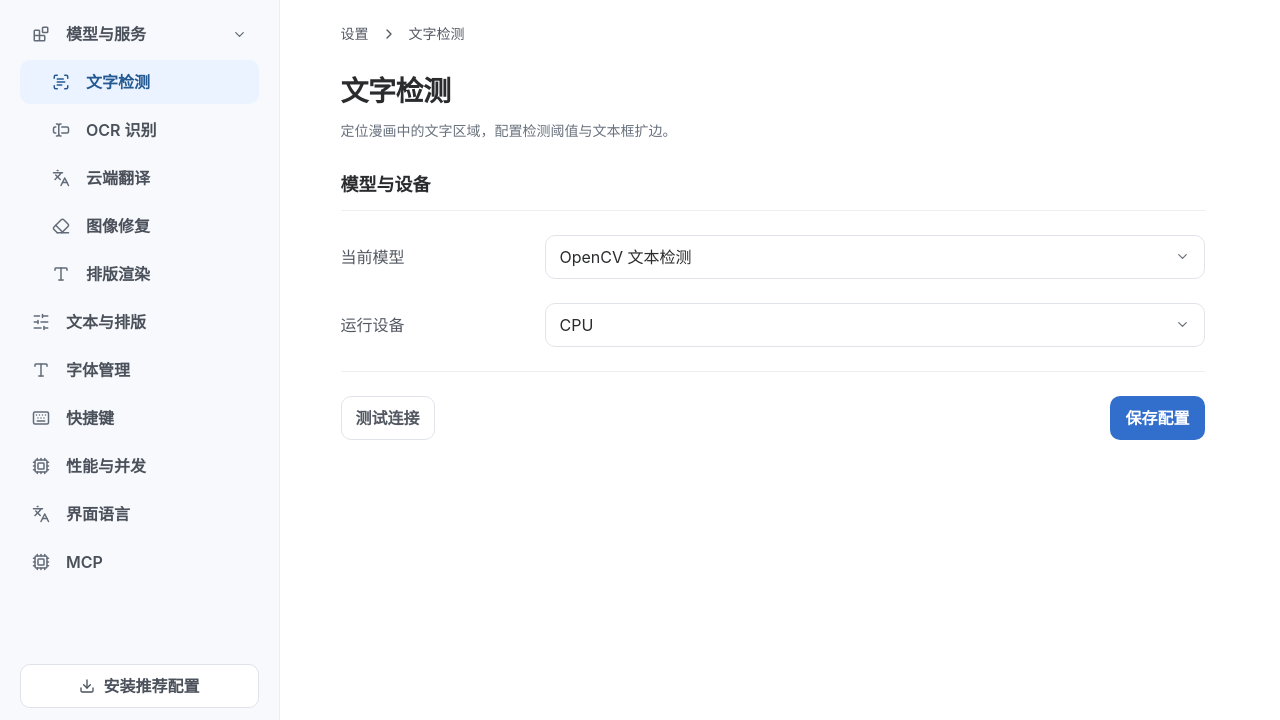
Test: service connection tests › tests rendering using current settings without saving
Click the button "排版渲染". click: (140, 274)
box: [20,252,259,296]
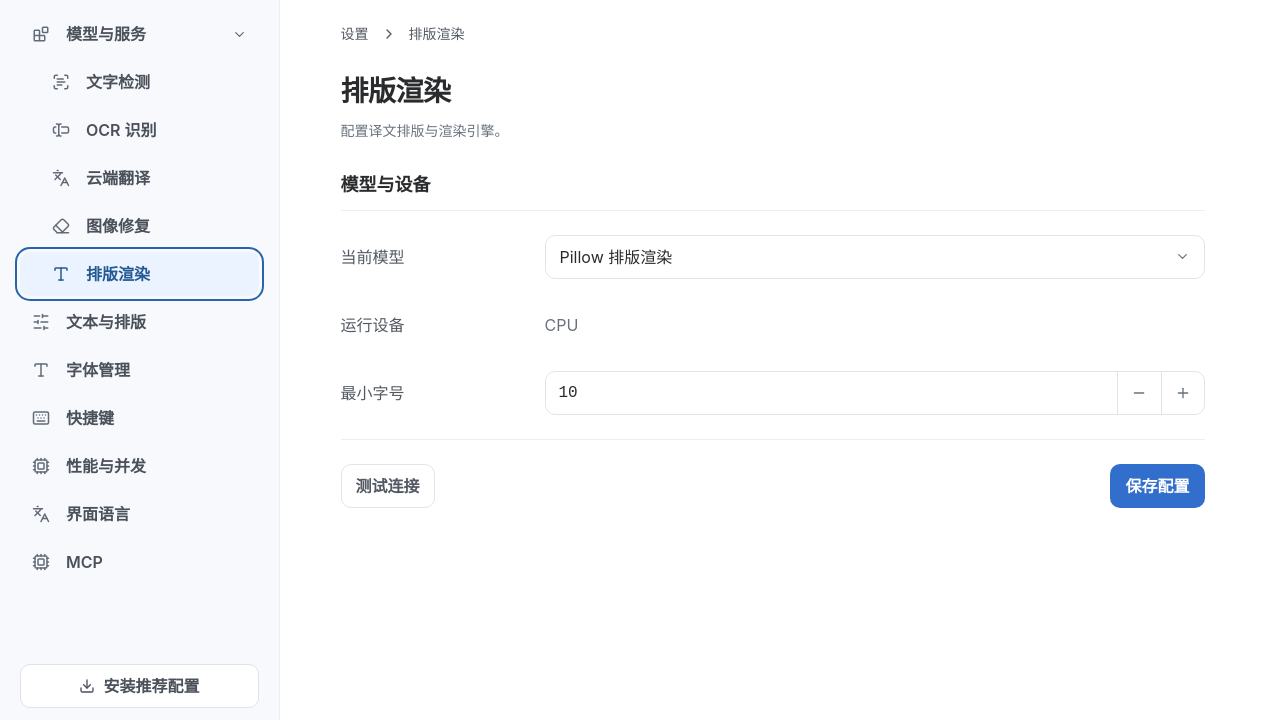
Click the button "测试连接". click: (388, 486)
box: [340,464,434,508]
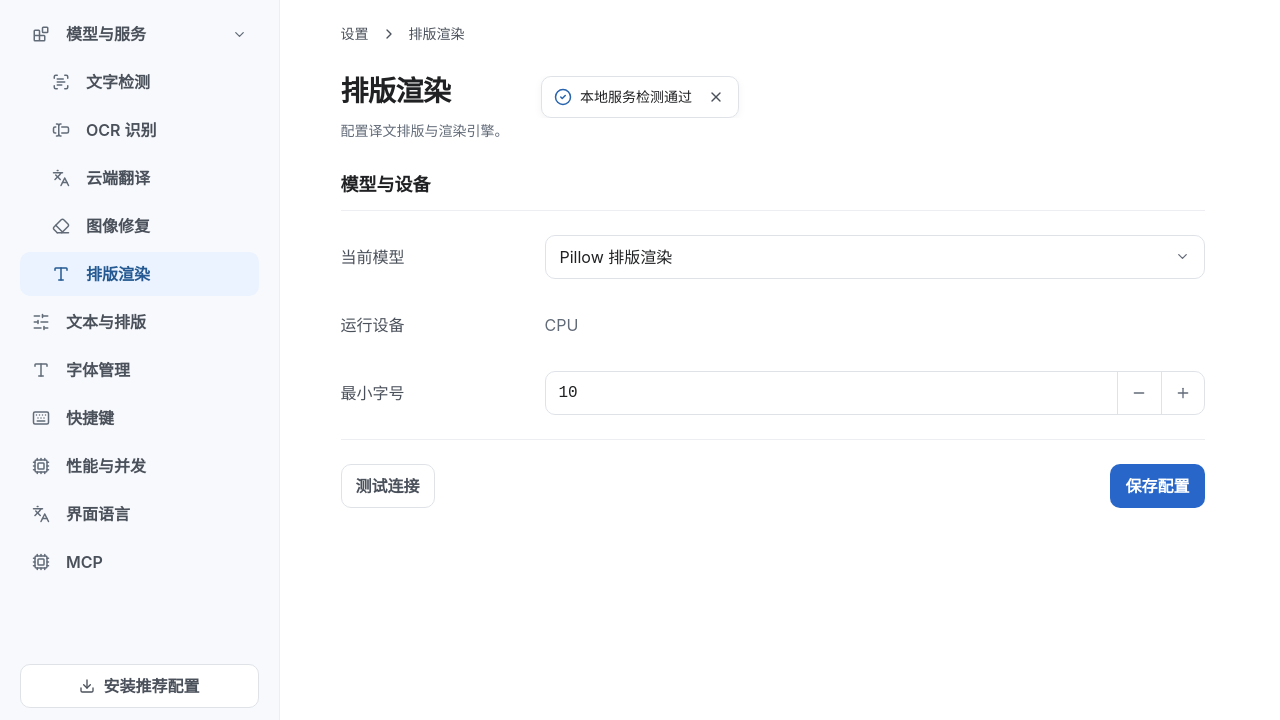
Result: the text "本地服务检测通过" is shown at [580,83,692,111]
Result: the message named "测试连接" reads "本地服务检测通过" at [580,88,692,105]
Click the button named "关闭提示". click: (716, 97)
box: [700,81,732,113]
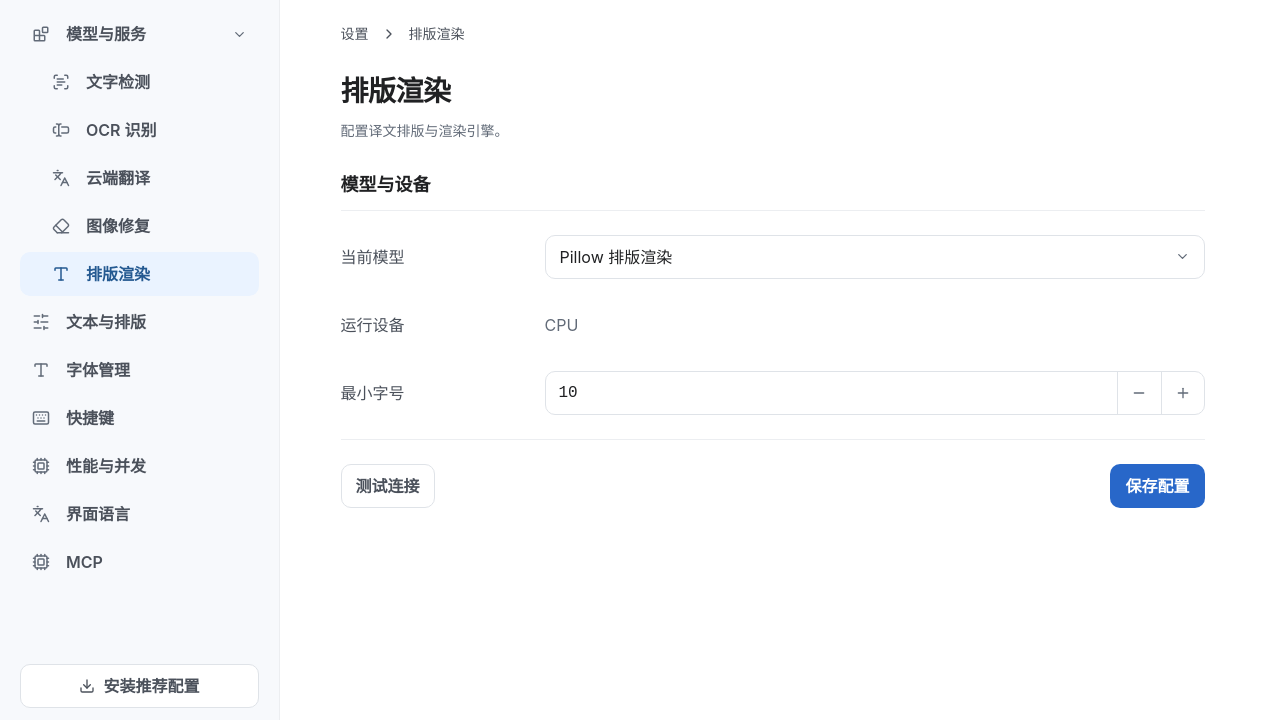
Result: the text "本地服务检测通过" is gone
